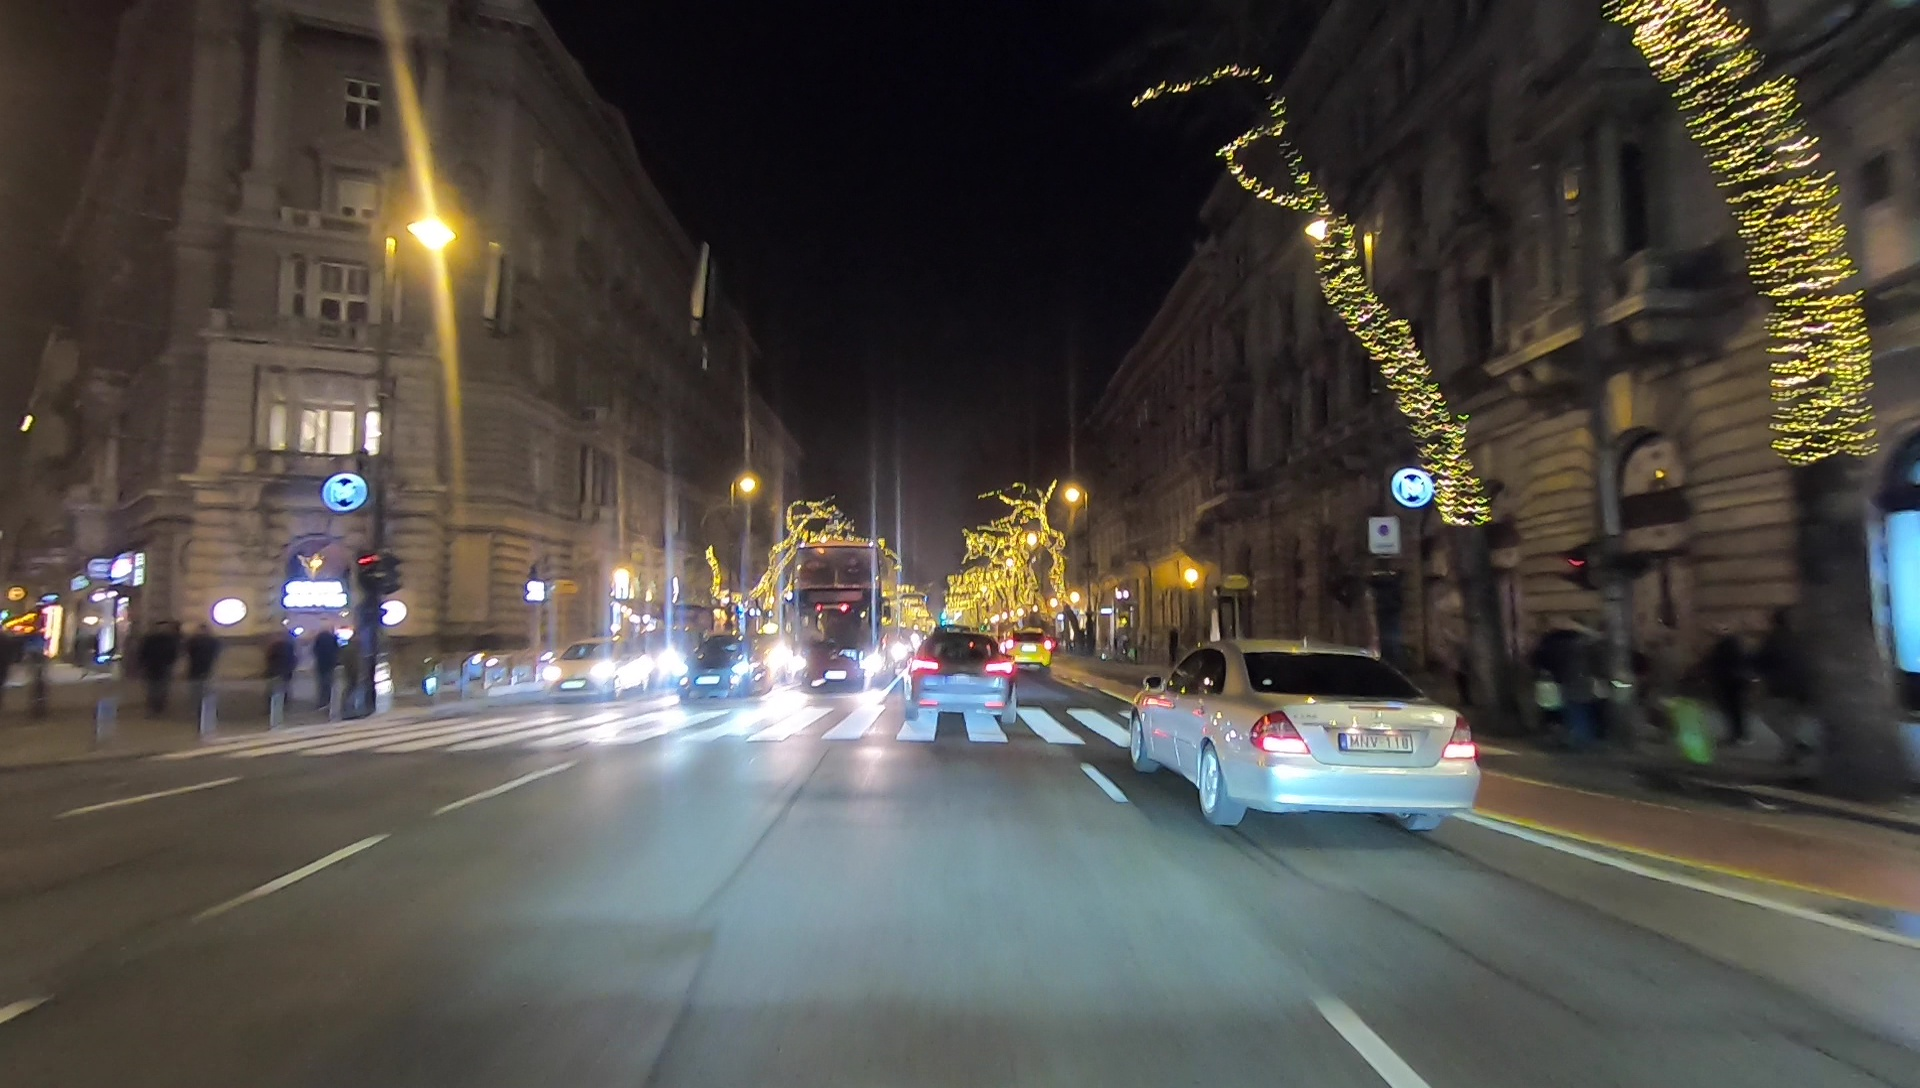person: (138, 623, 173, 711), (188, 621, 219, 711), (312, 626, 339, 710), (271, 641, 293, 717)
